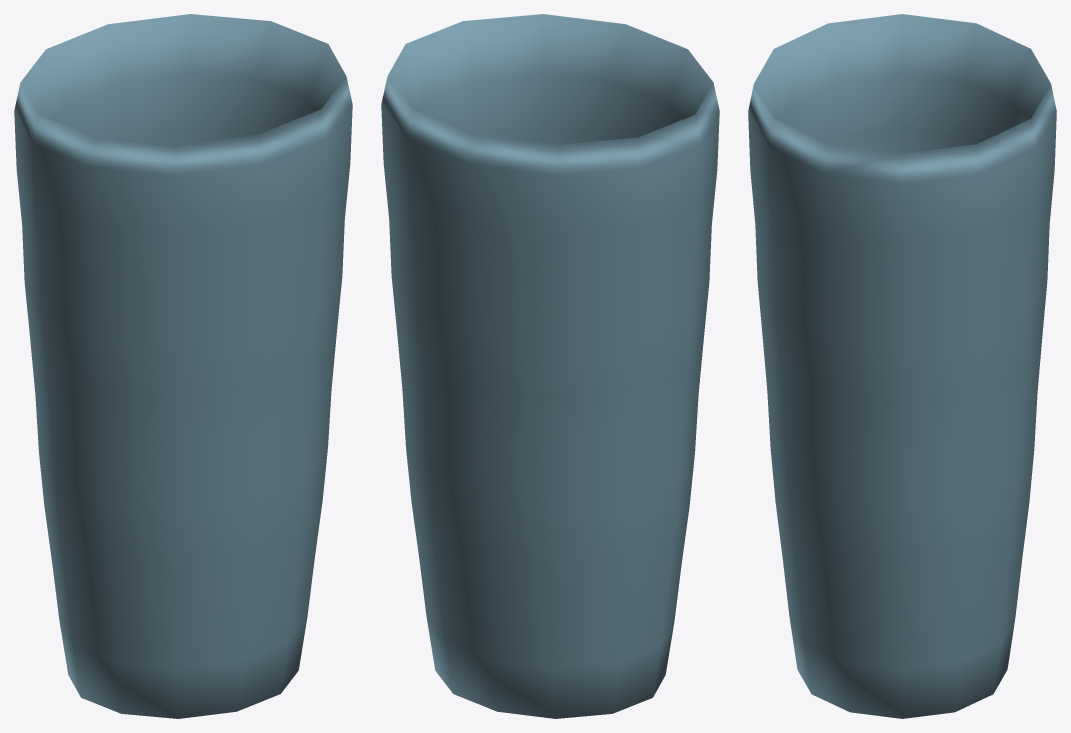
The model's file is VASO.fbx.
The picture shows the model from 3 angles, left to right: view 1: azimuth 30°, elevation 25°; view 2: azimuth 150°, elevation 25°; view 3: azimuth 270°, elevation 25°; orthographic projection.
Visible parts, largest first — view 1: vaso; view 2: vaso; view 3: vaso.
Boxes of the visible parts, x1,y1,x2,y2 form: vaso: (14,14,352,718); vaso: (381,14,719,718); vaso: (748,14,1056,718).
Size of the model in its own units: 7.45 by 14.26 by 6.7.
